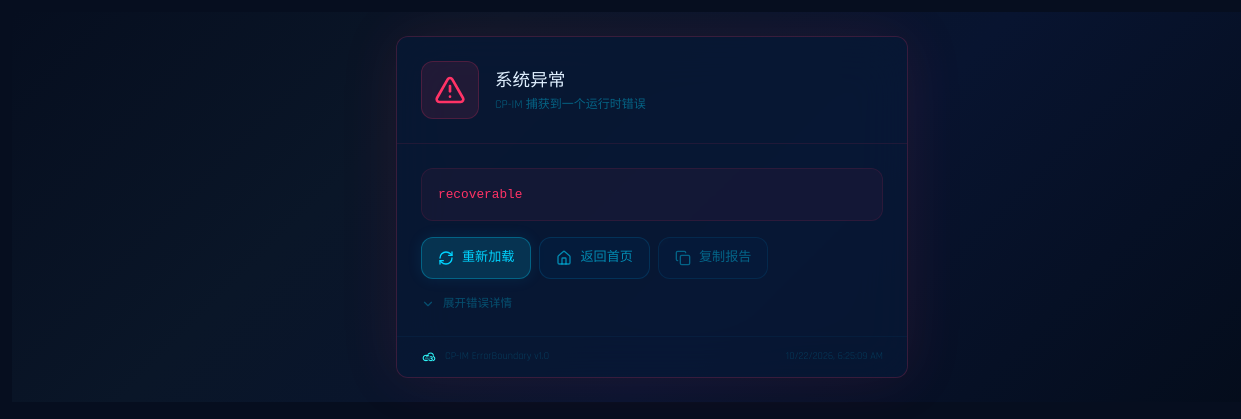
Test case: ErrorBoundary › 重置功能 › 点击重新加载应重置错误状态
Expected: the heading "系统异常" is shown, left=495, top=68, right=565, bottom=90
Step 1. Click the button "重新加载" → point(476, 258), box left=421, top=237, right=532, bottom=279
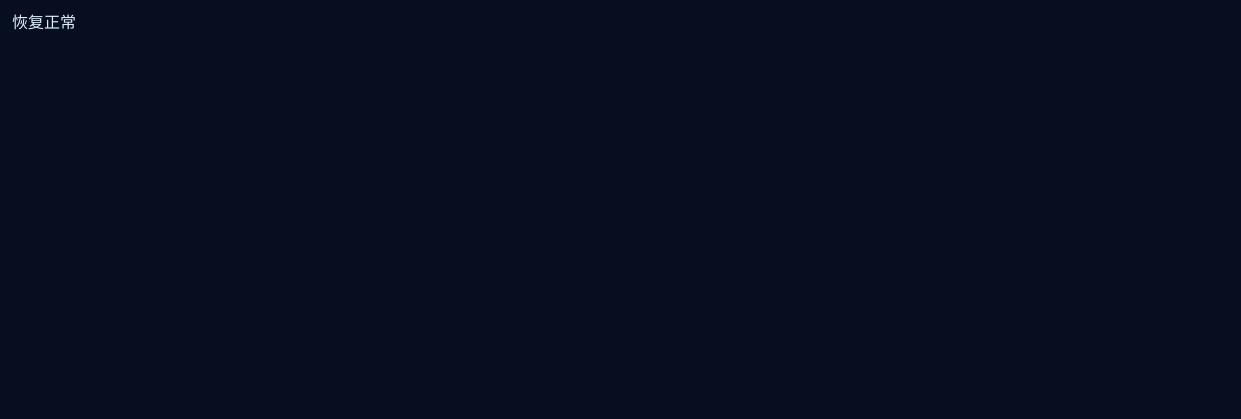
Expected: the text "恢复正常" is shown, left=12, top=13, right=76, bottom=34
